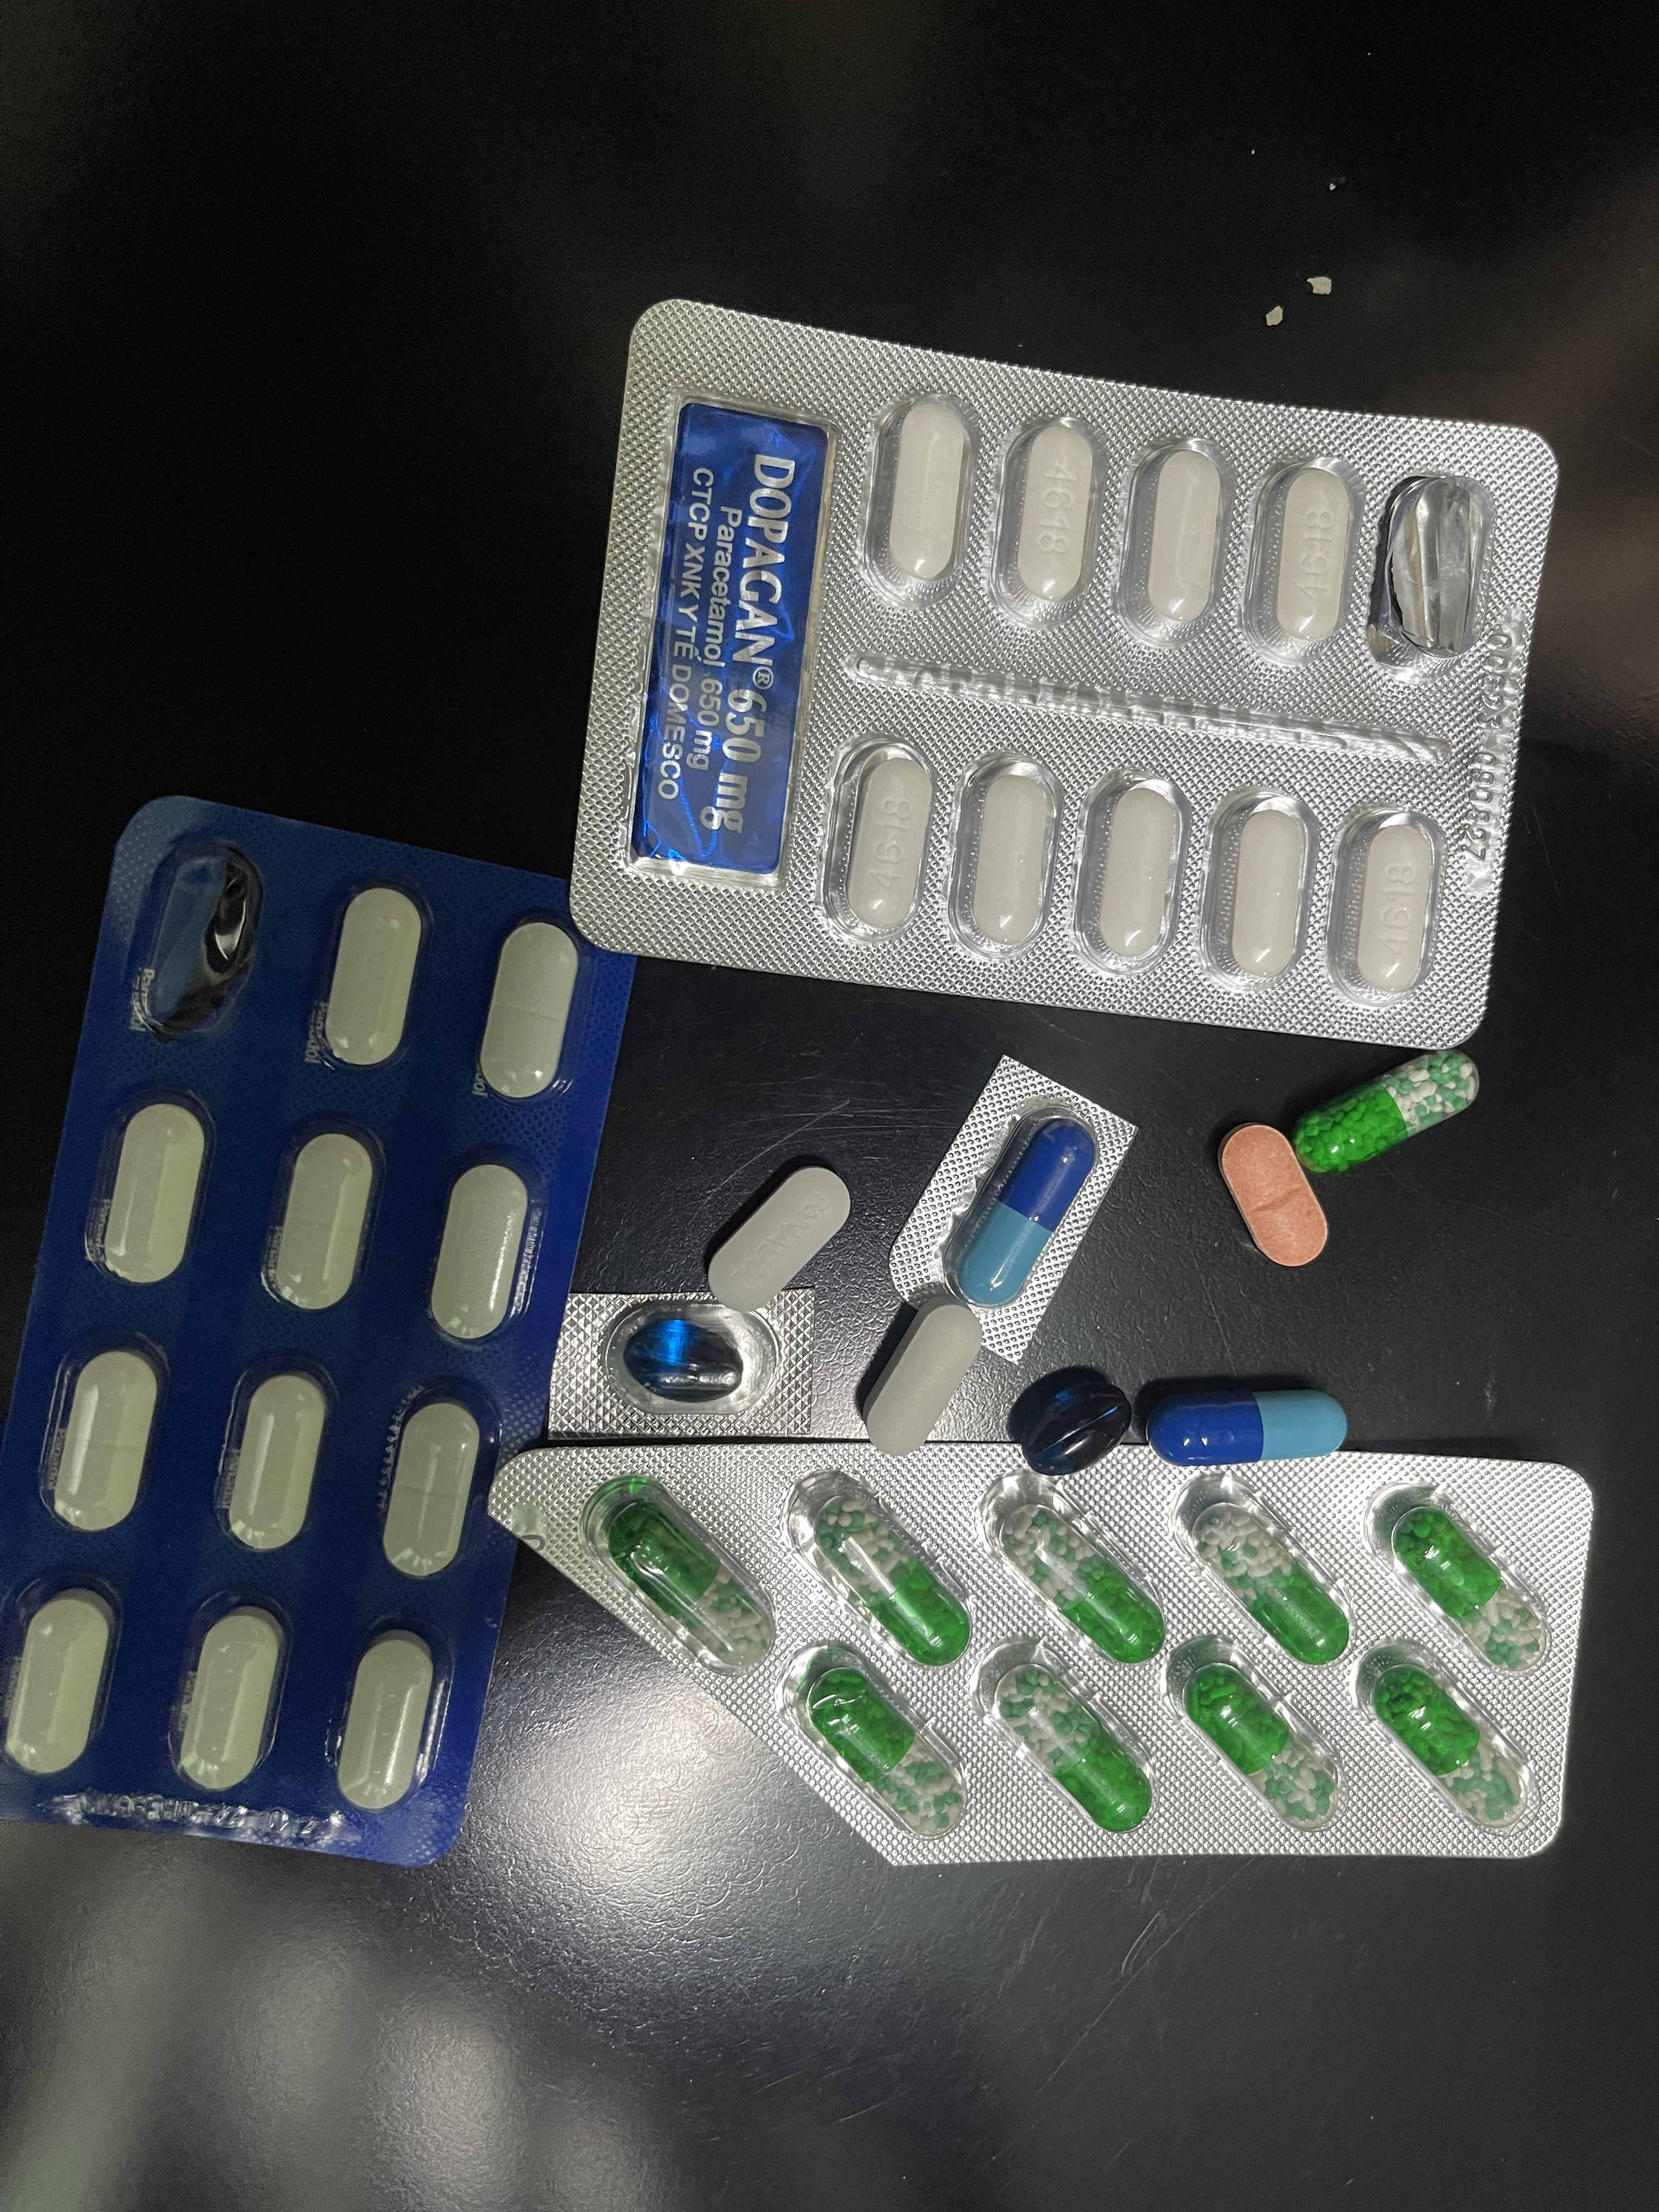Lincomyxin_500mg: (1002, 1362, 1138, 1468), (622, 1313, 749, 1399)
Loratadine_10mg: (1216, 1123, 1328, 1266)
Paracetamol_350mg: (3, 1580, 120, 1780), (94, 1097, 213, 1291), (704, 1163, 847, 1320), (174, 1602, 291, 1794), (220, 1367, 335, 1555), (427, 1158, 540, 1348), (49, 1346, 164, 1533), (319, 885, 427, 1068), (270, 1132, 378, 1313), (335, 1629, 441, 1811), (477, 920, 582, 1103), (382, 1395, 488, 1573)
Paracetamol_500mg: (1243, 453, 1366, 664), (988, 413, 1105, 627), (1114, 437, 1232, 648), (1072, 770, 1190, 977), (861, 394, 976, 606), (1201, 789, 1319, 995), (948, 754, 1063, 961), (821, 735, 934, 942), (1324, 806, 1439, 1000), (857, 1298, 985, 1456)
Paracetamol_650mg: (1166, 1625, 1349, 1832), (988, 1472, 1169, 1667), (992, 1655, 1152, 1831), (807, 1662, 964, 1834), (819, 1491, 974, 1663), (1391, 1503, 1549, 1669), (610, 1496, 767, 1662), (1371, 1658, 1525, 1827), (1199, 1505, 1352, 1663), (1288, 1050, 1481, 1174)
pill: (946, 1111, 1098, 1308), (1145, 1386, 1347, 1465)
